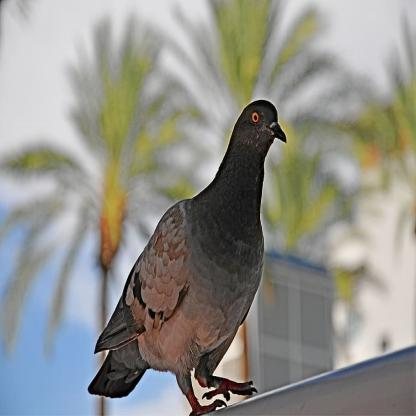Flying Rat: (96, 96, 291, 413)
